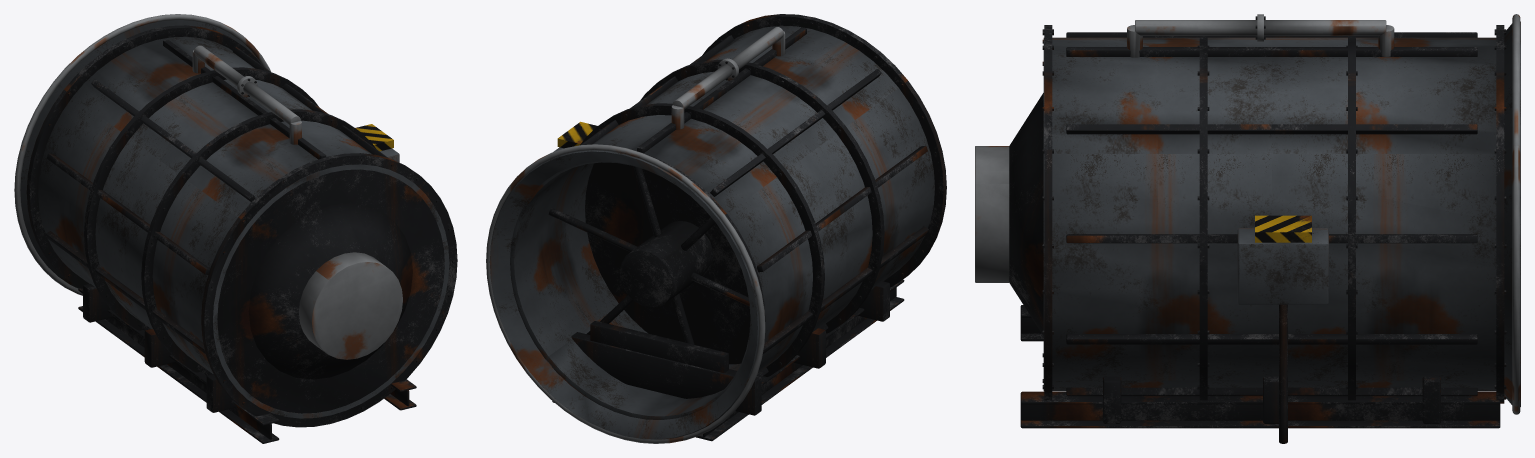
File: turbine_body.gltf
3 views of the same model, side by side, from view 1: azimuth 30°, elevation 25°; view 2: azimuth 150°, elevation 25°; view 3: azimuth 270°, elevation 25° (orthographic). The views are drawn at different scales.
Visible parts, largest first — view 1: turbine_body; view 2: turbine_body; view 3: turbine_body.
Part boxes in pixels (bbox=[...]): turbine_body: bbox=[14, 14, 457, 443]; turbine_body: bbox=[486, 14, 946, 443]; turbine_body: bbox=[975, 14, 1520, 443].
Size of the model in its own units: 3.65 by 3.67 by 4.78.
4 materials, 4 textured.
